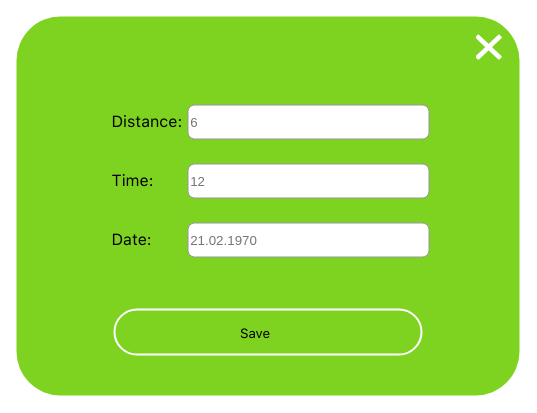
Test: Form Jog › should display matching error when date is invalid
Type "15" into the field with placeholder "6" at [308, 122], box 187,104 -> 429,140
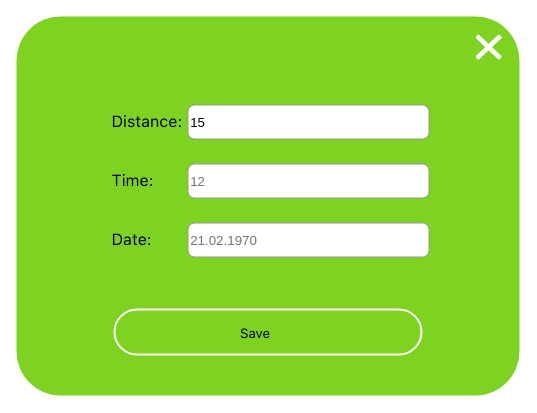
Type "30" into the field with placeholder "12" at [308, 181], box 187,164 -> 429,198
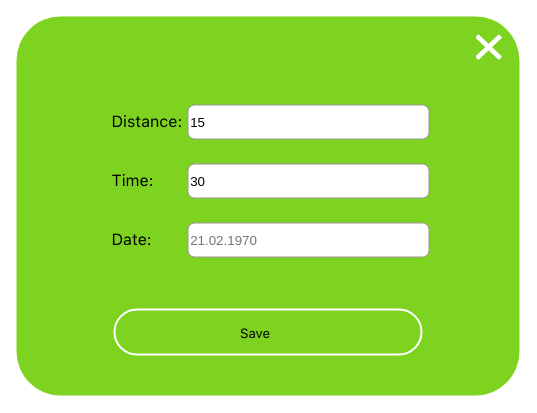
Type "invalid" into the field with placeholder "21.02.1970" at [308, 240], box 187,222 -> 429,258
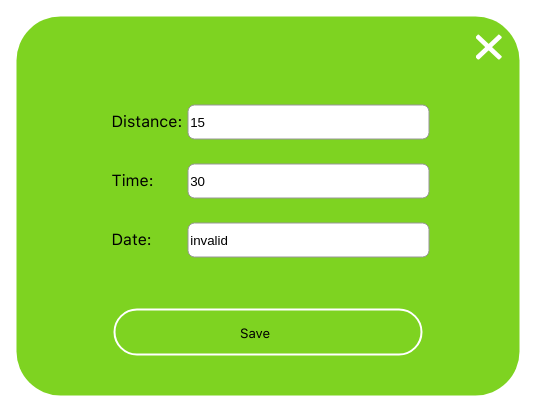
Submit the form from the button with test id "form-submit", box 114,308 -> 422,356
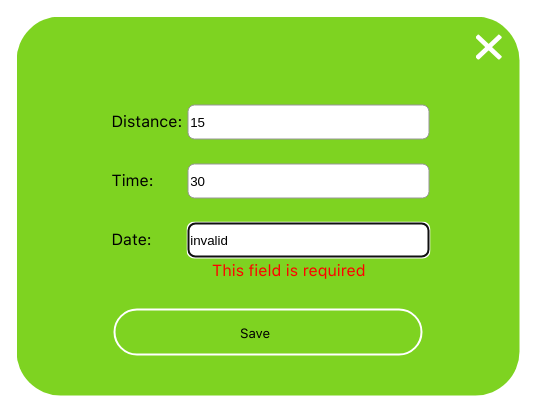
Now the text "This field is required" is shown once, box 212,260 -> 366,280
